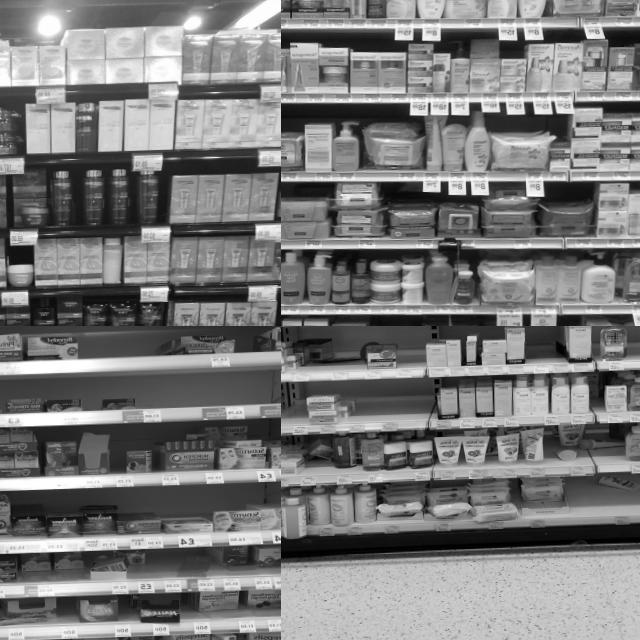100- O.O.S: (161, 371, 243, 422), (77, 326, 157, 371), (377, 382, 428, 430), (569, 491, 638, 526), (245, 368, 281, 419), (180, 546, 210, 592), (331, 334, 359, 381), (352, 382, 378, 432), (394, 333, 422, 377), (153, 550, 180, 593), (524, 326, 548, 372), (287, 386, 307, 434), (56, 596, 77, 638), (234, 326, 253, 366), (111, 438, 124, 487), (549, 326, 562, 372), (118, 594, 132, 636), (627, 326, 640, 369)
